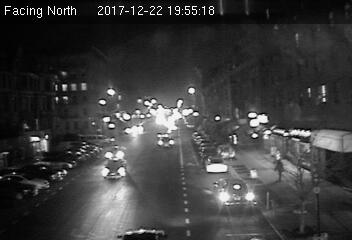car: (212, 176, 258, 211), (102, 157, 127, 179), (205, 154, 228, 174), (104, 146, 127, 159), (157, 135, 174, 149)
pedestrian: (274, 158, 285, 184)
